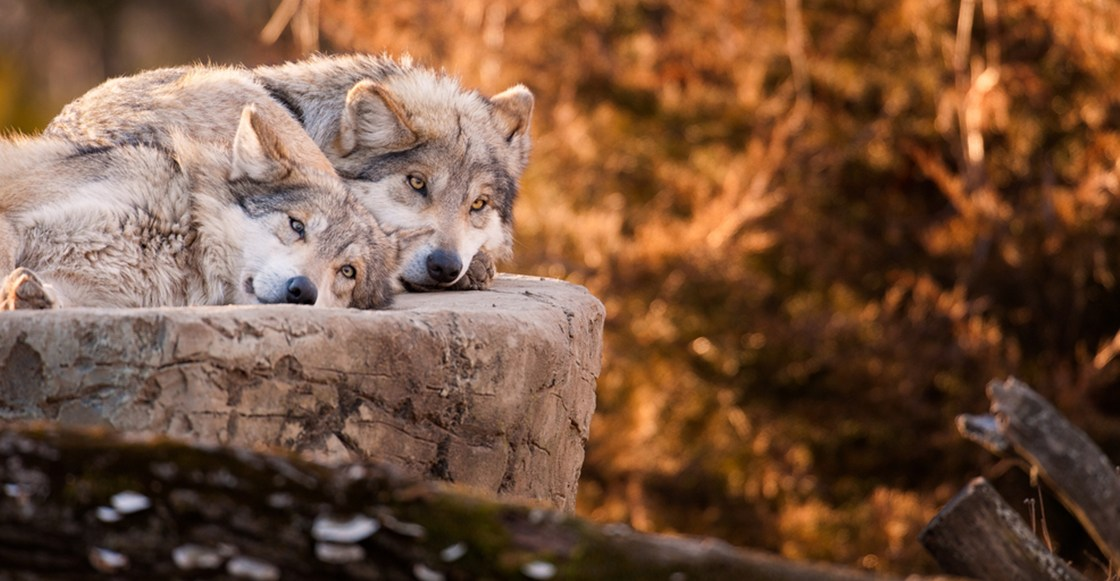Lobo: (261, 30, 593, 325), (18, 116, 372, 342)
